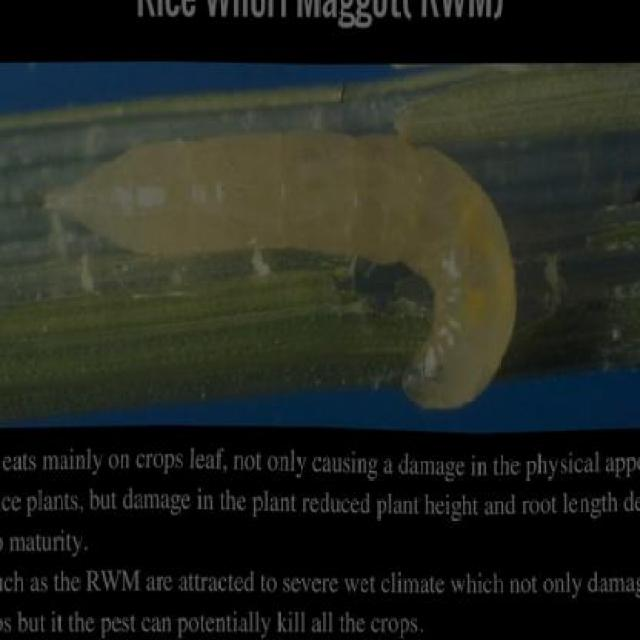whorl-maggot: (24, 115, 522, 411)
